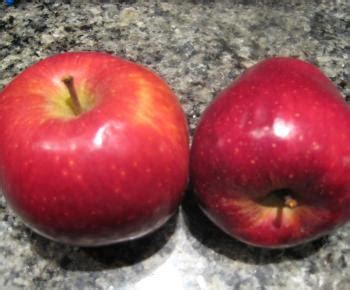apple: (1, 49, 192, 249), (191, 49, 350, 251)
